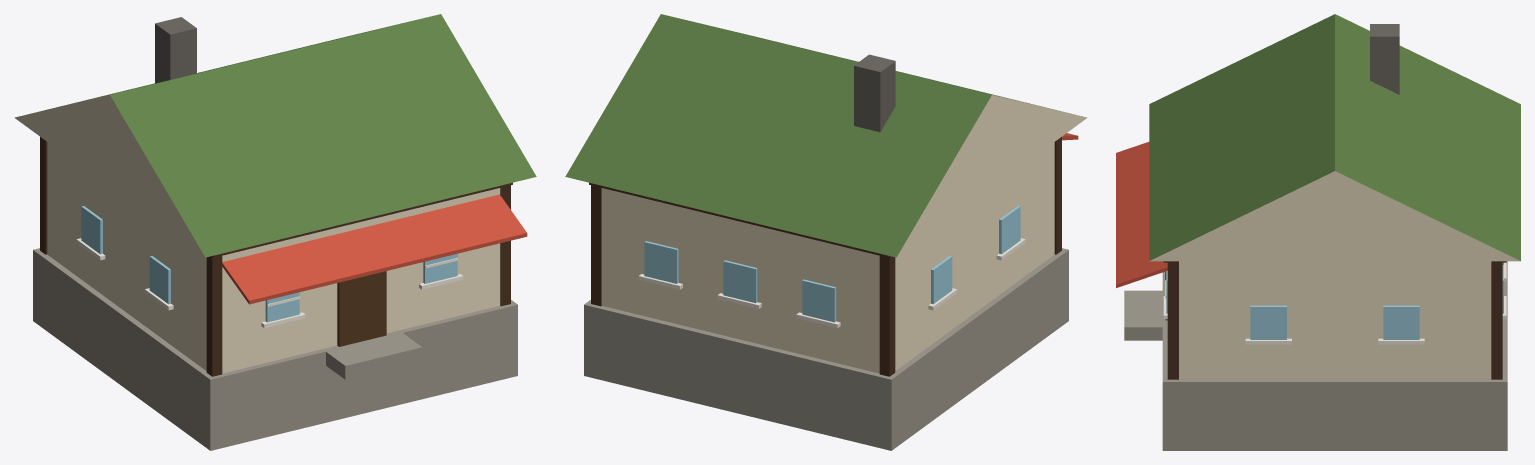
File: cafe.glb
3 views of the same model, side by side, from view 1: azimuth 30°, elevation 25°; view 2: azimuth 150°, elevation 25°; view 3: azimuth 270°, elevation 25° (orthographic). The views are drawn at different scales.
Parts seen in each view (by area): view 1: cafe-col; view 2: cafe-col; view 3: cafe-col.
Part boxes in pixels (bbox=[...]): cafe-col: bbox=[14, 14, 536, 450]; cafe-col: bbox=[565, 14, 1087, 450]; cafe-col: bbox=[1116, 14, 1520, 450].
Bounding box in the file's own units: 11.2 × 10.4 × 12.2.
